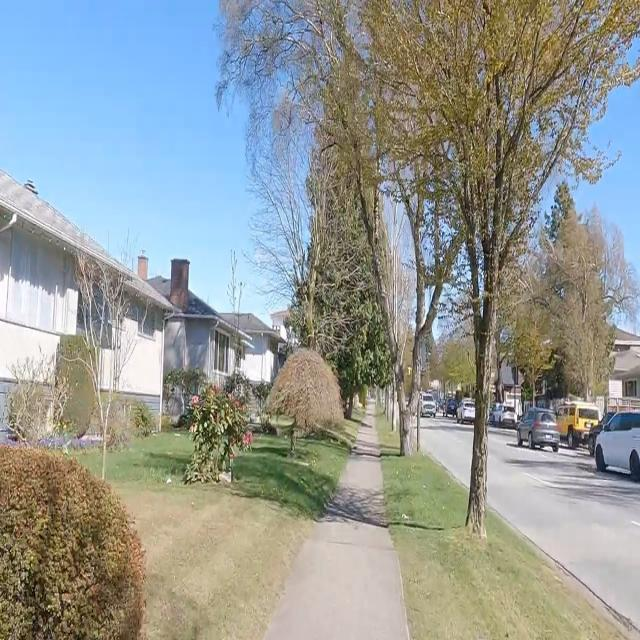Automobile: (594, 411, 639, 480), (556, 401, 601, 446), (517, 407, 559, 451), (457, 397, 475, 424), (420, 393, 436, 416), (500, 406, 516, 427), (445, 398, 457, 417)
Road: (488, 428, 639, 629), (422, 419, 471, 484)
Sidewalk: (264, 414, 409, 639)
